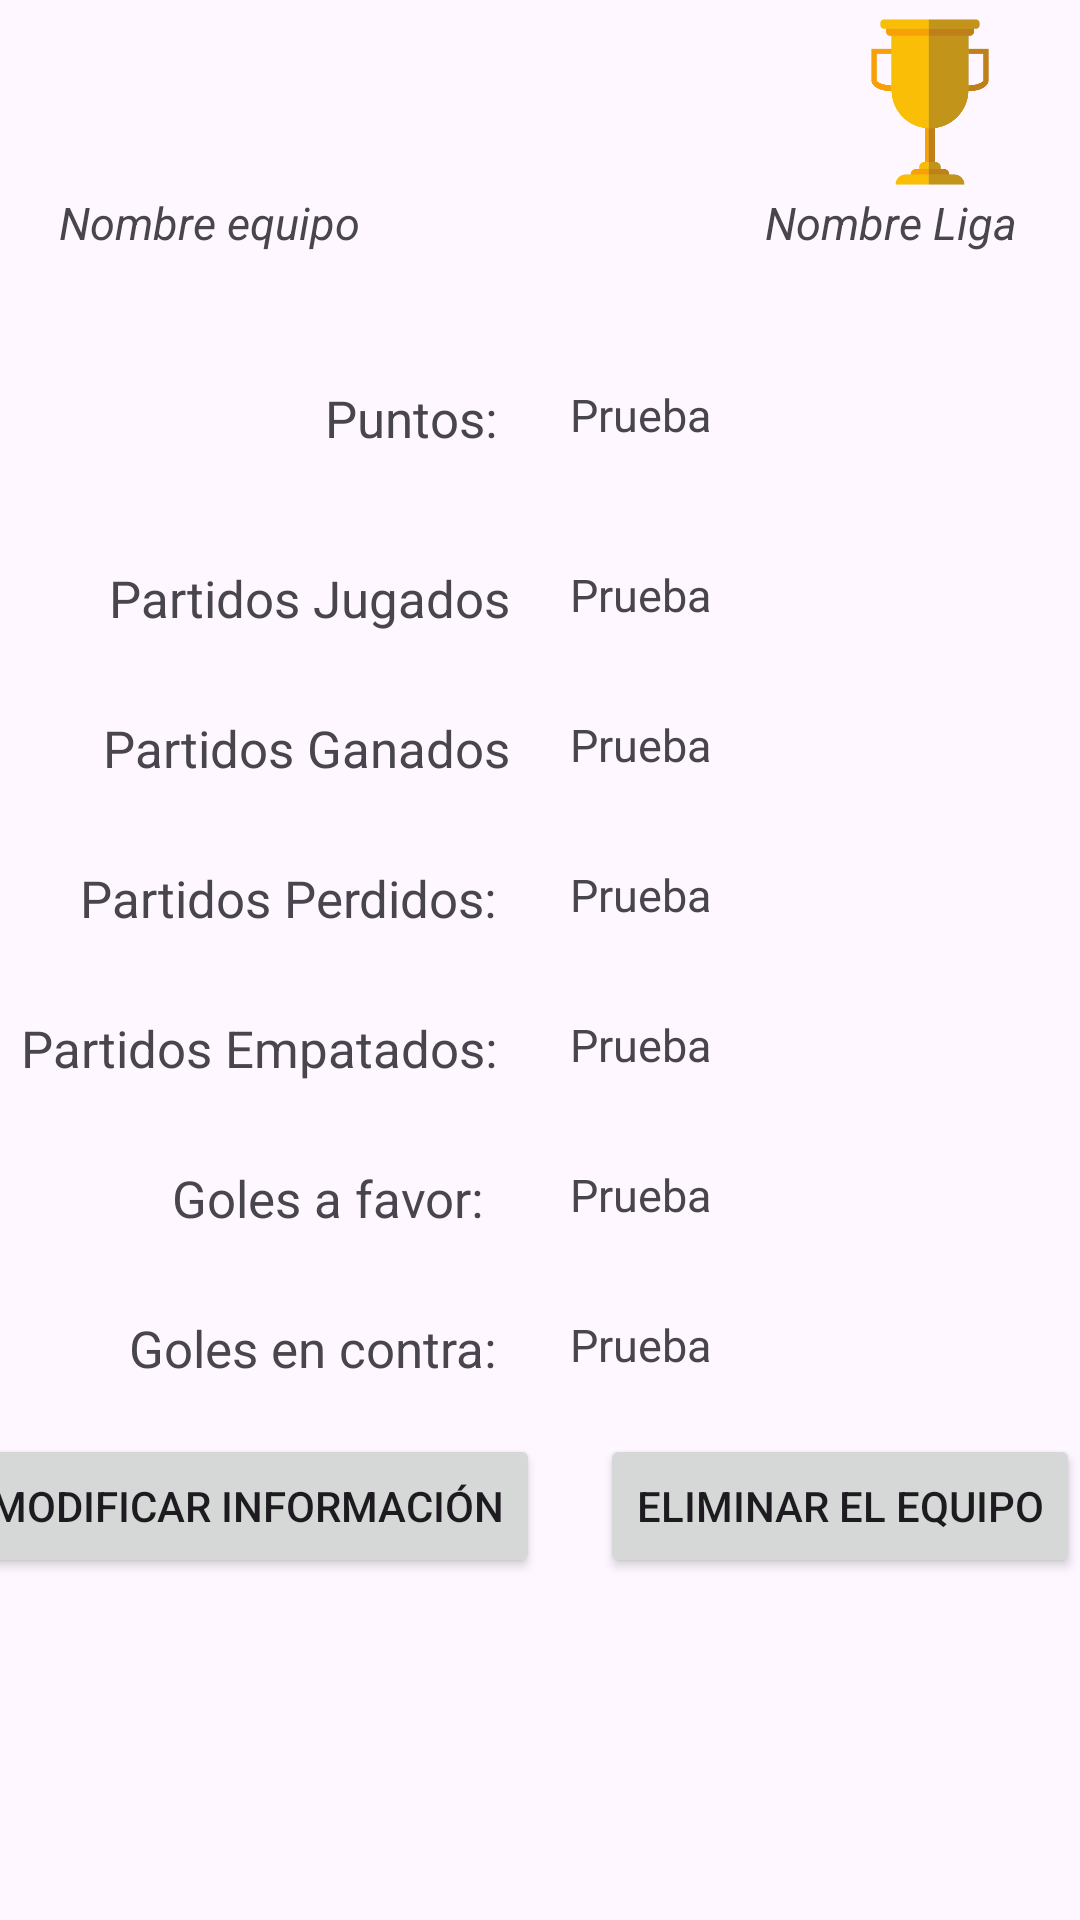

Locate icon controls on the screen. Image size 1080px×1920px, boxes as (x1, y1, x2, y2).
copa: (871, 19, 989, 185)
